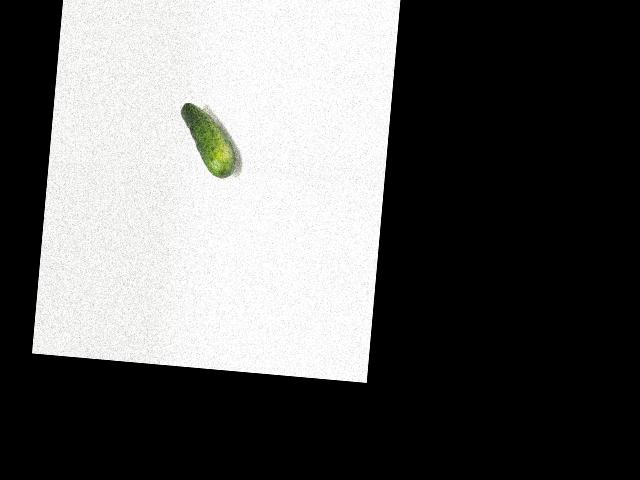cucumber: (175, 101, 239, 178)
